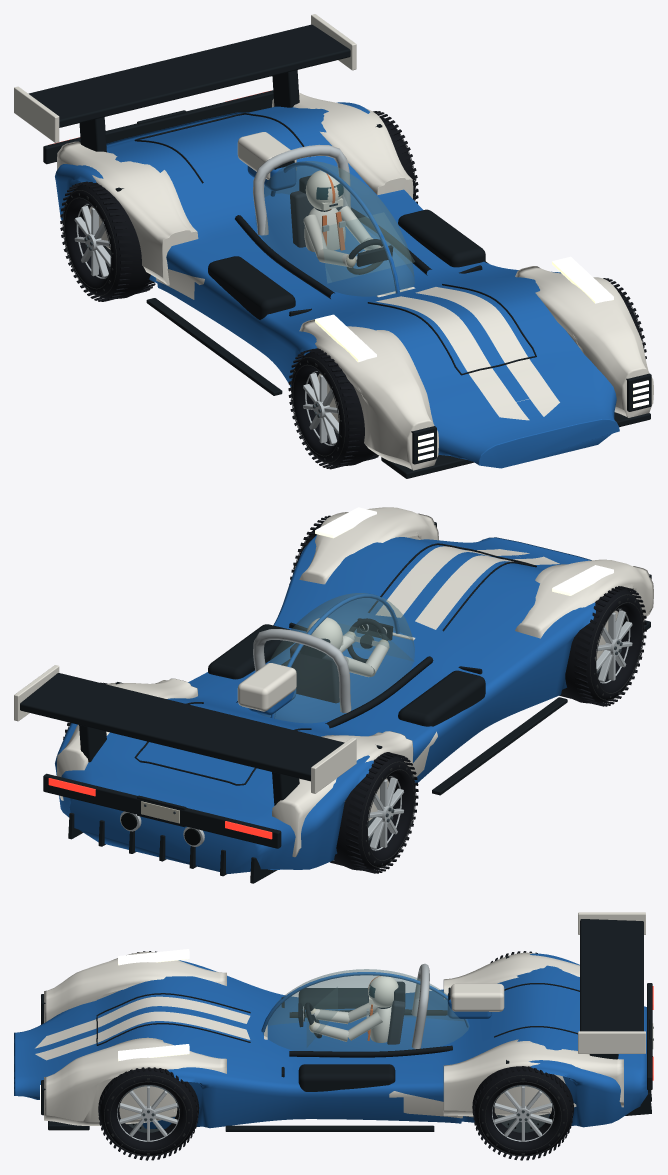
The model's file is viper_proto.glb.
3 renders of one model, top to bottom at view 1: azimuth 30°, elevation 25°; view 2: azimuth 150°, elevation 25°; view 3: azimuth 270°, elevation 25°, orthographic. The views are drawn at different scales.
Visible parts, largest first — view 1: Lacquered body, Race livery (×2), Carbon and trim (×2), Glass, Tire rubber (×3), Machined aluminum (×3), Driver_helmet_and_harness, Headlamp lenses, Raised sidewall rubber (×2), Cabin fabric; view 2: Lacquered body, Carbon and trim (×2), Race livery (×2), Glass, Tire rubber (×2), Machined aluminum (×3), Cabin fabric, Headlamp lenses, Driver_helmet_and_harness, Raised sidewall rubber (×2), Brake lenses, SteeringWheel; view 3: Lacquered body, Race livery (×2), Carbon and trim (×2), Glass, Tire rubber (×2), Machined aluminum (×3), Driver_helmet_and_harness, Headlamp lenses, Raised sidewall rubber (×2), Cabin fabric, Dark machined metal.
Boxes of the visible parts, x1,y1,x2,y2 form: Lacquered body: (55, 102, 619, 468); Race livery (×2): (14, 14, 653, 470); Carbon and trim (×2): (28, 24, 651, 478); Glass: (255, 161, 414, 296); Tire rubber (×3): (60, 111, 418, 469); Machined aluminum (×3): (74, 144, 383, 445); Driver_helmet_and_harness: (303, 170, 380, 267); Headlamp lenses: (315, 256, 648, 460); Raised sidewall rubber (×2): (62, 190, 345, 463); Cabin fabric: (290, 191, 341, 247); Lacquered body: (55, 535, 595, 873); Carbon and trim (×2): (20, 522, 651, 883); Race livery (×2): (14, 507, 653, 857); Glass: (258, 593, 414, 722); Tire rubber (×2): (330, 586, 646, 873); Machined aluminum (×3): (120, 608, 632, 850); Cabin fabric: (290, 643, 339, 703); Headlamp lenses: (315, 507, 613, 595); Driver_helmet_and_harness: (306, 617, 389, 677); Raised sidewall rubber (×2): (361, 594, 644, 867); Brake lenses: (48, 778, 272, 839); SteeringWheel: (347, 618, 387, 662); Lacquered body: (14, 953, 647, 1128); Race livery (×2): (35, 912, 645, 1125); Carbon and trim (×2): (41, 919, 652, 1131); Glass: (262, 969, 469, 1051); Tire rubber (×2): (98, 1066, 573, 1160); Machined aluminum (×3): (117, 963, 554, 1141); Driver_helmet_and_harness: (309, 975, 398, 1042); Headlamp lenses: (40, 949, 189, 1110); Raised sidewall rubber (×2): (104, 1075, 567, 1155); Cabin fabric: (387, 1000, 405, 1044); Dark machined metal: (492, 1085, 553, 1132).
Size of the model in its own units: 2.2 by 1.1 by 4.9.
